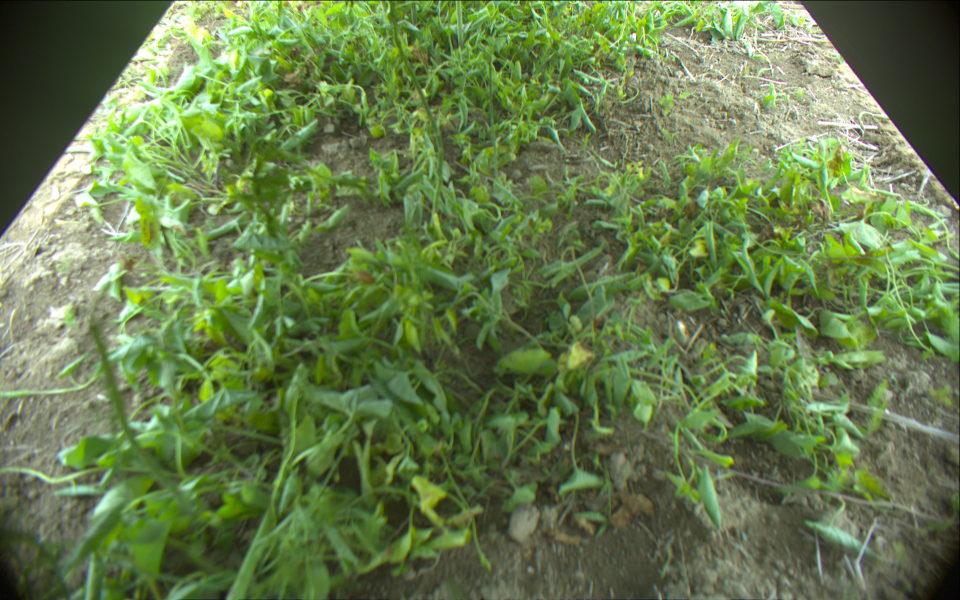aspa: (91, 324, 194, 520), (385, 1, 444, 174), (488, 43, 497, 146), (454, 1, 465, 50)
